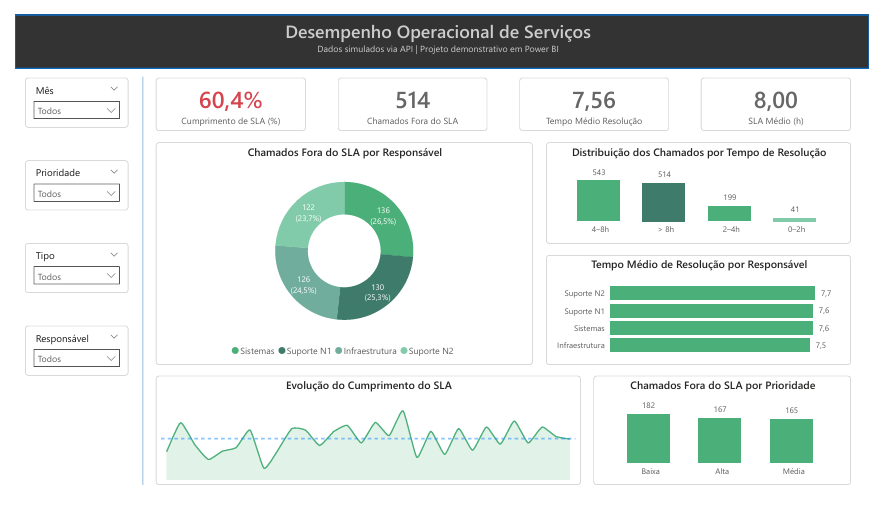

What the dashboard file says about the page in this screenshot:
{"tool":"powerbi","page":{"name":"Desempenho","canvas":[1280,720],"ordinal":1},"visuals":[{"type":"shape","box":[0,0,1280.2,80],"z":0},{"type":"card","fields":{"Values":["Medidas.SLA Médio (h)"]},"box":[1028.2,94.3,224.5,79.7],"z":1000},{"type":"card","fields":{"Values":["Medidas.% SLA"]},"box":[211.2,94.3,224.5,79.7],"z":2000},{"type":"card","fields":{"Values":["Medidas.Tempo Médio Resolução"]},"box":[756,94.2,224,80],"z":3000},{"type":"card","fields":{"Values":["Medidas.Chamados Fora SLA"]},"box":[483.9,94.2,224,80],"z":4000},{"type":"slicer","fields":{"Values":["chamados.MesNome"]},"box":[14.8,94.3,155,75],"z":5000},{"type":"slicer","fields":{"Values":["chamados.prioridade"]},"box":[14.8,218.2,155,75],"z":6000},{"type":"slicer","fields":{"Values":["chamados.tipo"]},"box":[14.8,342.1,155,75],"z":7000},{"type":"slicer","fields":{"Values":["chamados.responsavel"]},"box":[14.8,466.1,155,75],"z":8000},{"type":"shape","box":[182,93,18.6,612.4],"z":9000},{"type":"donutChart","title":"Chamados Fora do SLA por Responsável","fields":{"Category":["chamados.responsavel"],"Y":["Medidas.Chamados Fora SLA"]},"box":[211.2,191.3,564.6,333.4],"z":10000},{"type":"clusteredColumnChart","title":"Chamados Fora do SLA por Prioridade","fields":{"Category":["chamados.prioridade"],"Y":["Medidas.Chamados Fora SLA"]},"box":[867.5,540.7,385.2,164.7],"z":11000},{"type":"areaChart","title":"Evolução do Cumprimento do SLA","fields":{"Category":["chamados.dataAbertura.Variation.Hierarquia de datas.Mês","chamados.dataAbertura.Variation.Hierarquia de datas.Dia"],"Y":["Medidas.% SLA ao Longo do Tempo"]},"box":[211.2,540.7,636.3,164.7],"z":12000},{"type":"textbox","box":[14.9,0,1238.3,80.7],"z":13000},{"type":"clusteredColumnChart","title":"Distribuição dos Chamados por Tempo de Resolução","fields":{"Category":["chamados.Faixa Tempo Resolução"],"Y":["Medidas.Total Chamados"]},"box":[795.7,191.3,457,151.4],"z":14000},{"type":"clusteredBarChart","title":"Tempo Médio de Resolução por Responsável","fields":{"Category":["chamados.responsavel"],"Y":["Medidas.Tempo Médio Resolução"]},"box":[795.7,360,457,164.7],"z":15000}]}

Visuals, with their boxes in screenshot pixels (x1, y1, x2, y2), scaled from the page's 1280x720 canvas onto the 883x510 screenshot:
shape: 0:0:882:57
card - Medidas.SLA Médio (h): 709:67:864:123
card - Medidas.% SLA: 146:67:301:123
card - Medidas.Tempo Médio Resolução: 522:67:676:123
card - Medidas.Chamados Fora SLA: 334:67:488:123
slicer - chamados.MesNome: 10:67:117:120
slicer - chamados.prioridade: 10:155:117:208
slicer - chamados.tipo: 10:242:117:295
slicer - chamados.responsavel: 10:330:117:383
shape: 126:66:138:500
"Chamados Fora do SLA por Responsável" donutChart: 146:136:535:372
"Chamados Fora do SLA por Prioridade" clusteredColumnChart: 598:383:864:500
"Evolução do Cumprimento do SLA" areaChart: 146:383:585:500
textbox: 10:0:865:57
"Distribuição dos Chamados por Tempo de Resolução" clusteredColumnChart: 549:136:864:243
"Tempo Médio de Resolução por Responsável" clusteredBarChart: 549:255:864:372
